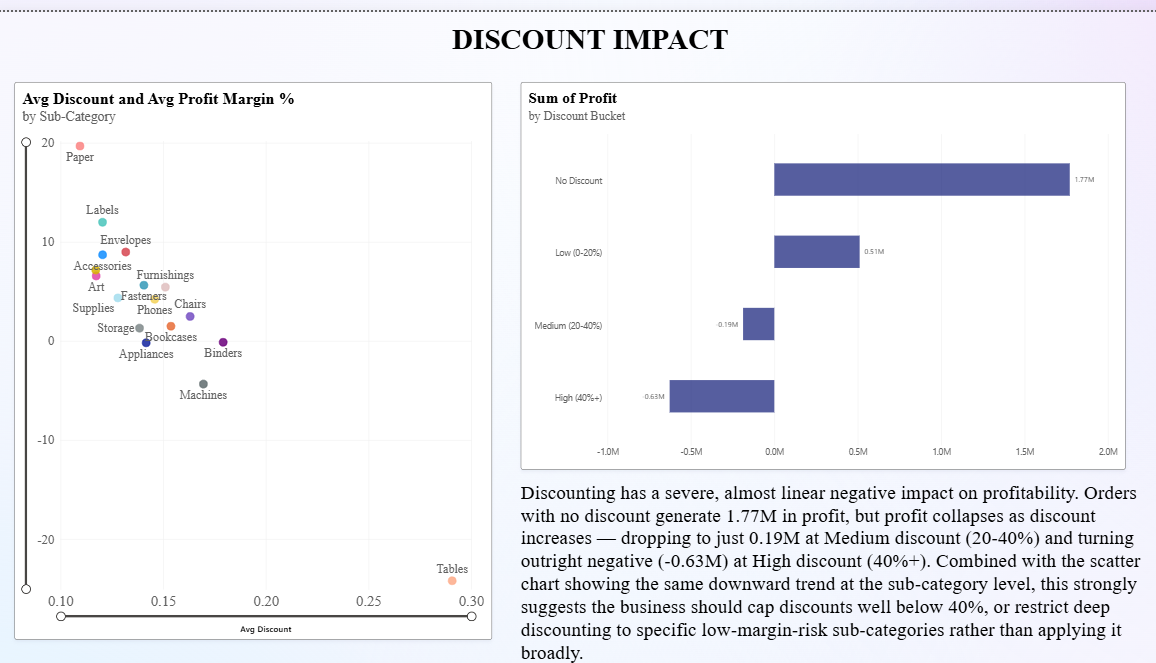

This screenshot's page, from the dashboard's own definition file:
{"tool":"powerbi","page":{"name":"Discount Impact","canvas":[1920,1080],"ordinal":3},"visuals":[{"type":"scatterChart","fields":{"Series":["cleaned_global_superstore.Sub-Category"],"X":["cleaned_global_superstore.Avg Discount"],"Y":["cleaned_global_superstore.Avg Profit Margin %"]},"box":[28.8,115.3,786.3,918],"z":0},{"type":"clusteredBarChart","fields":{"Category":["cleaned_global_superstore.Discount Bucket"],"Y":["Sum(cleaned_global_superstore.Profit)"]},"box":[862.4,115.3,996.2,638.1],"z":1},{"type":"textbox","box":[862.4,771.9,1058,308.7],"z":2},{"type":"textbox","box":[749.2,18.5,728.6,80.3],"z":3}]}

Visuals, with their boxes in screenshot pixels (x1, y1, x2, y2), scaled from the page's 1920x1080 canvas onto the 1156x663 screenshot:
scatterChart - cleaned_global_superstore.Sub-Category x cleaned_global_superstore.Avg Discount: <bbox>17, 71, 491, 634</bbox>
clusteredBarChart - cleaned_global_superstore.Discount Bucket x Sum(cleaned_global_superstore.Profit): <bbox>519, 71, 1119, 463</bbox>
textbox: <bbox>519, 474, 1155, 662</bbox>
textbox: <bbox>451, 11, 890, 61</bbox>
